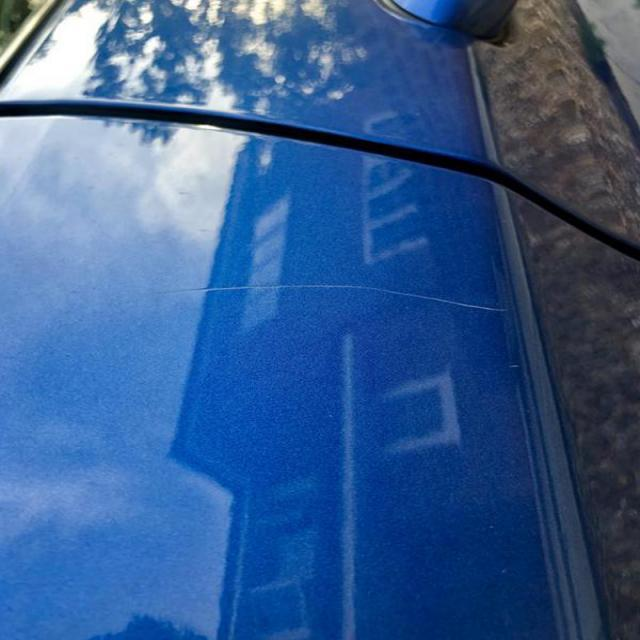scratch: (167, 268, 519, 329)
